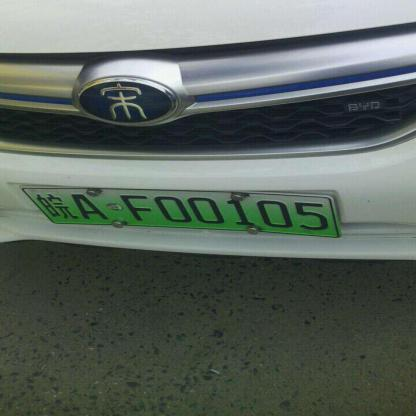lp: (22, 188, 50, 236)
